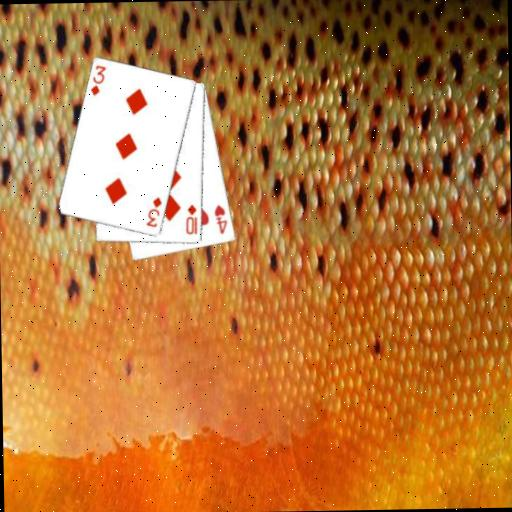10D: (183, 202, 199, 236)
3D: (143, 194, 164, 230), (87, 62, 108, 97)
4H: (211, 202, 230, 236)
